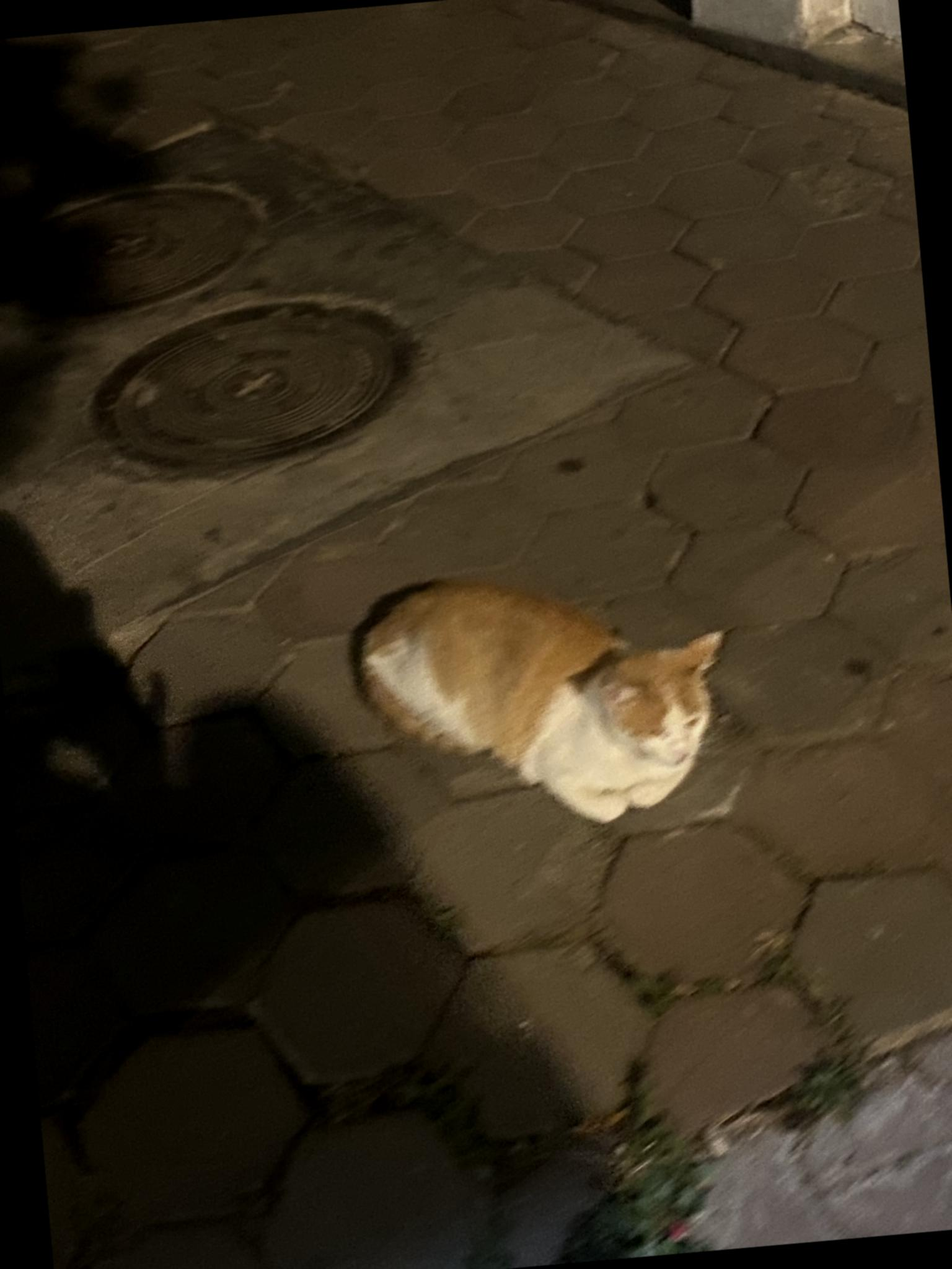macka: (354, 556, 742, 842)
